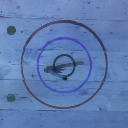Axe Tip: (50, 69, 61, 73)
